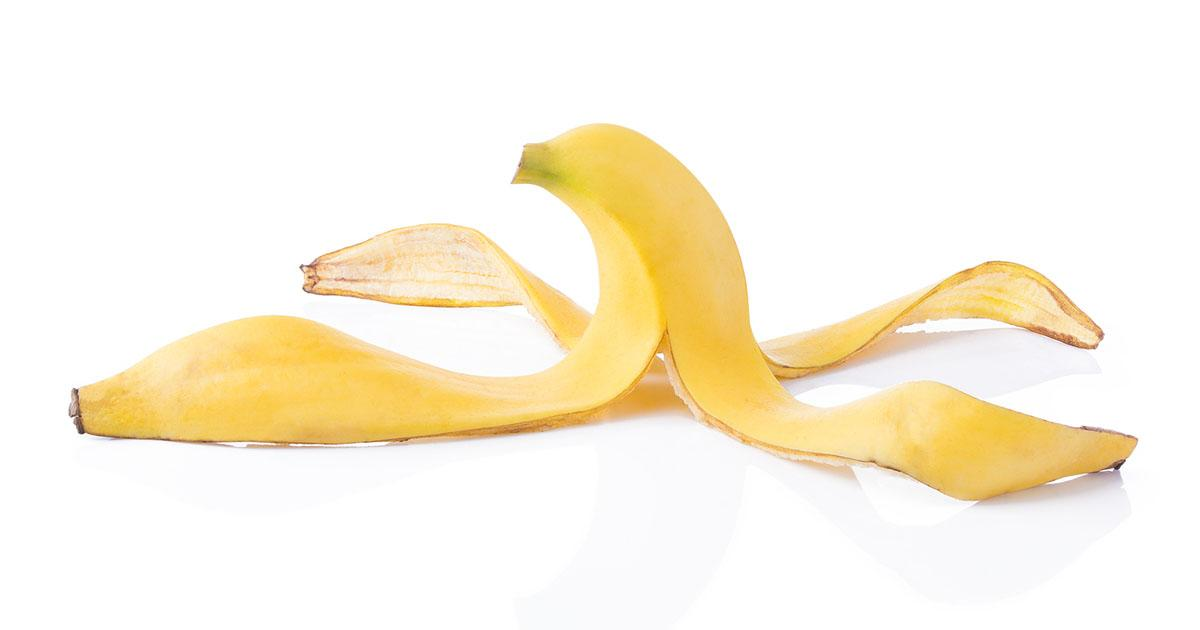banana: (125, 133, 772, 497)
